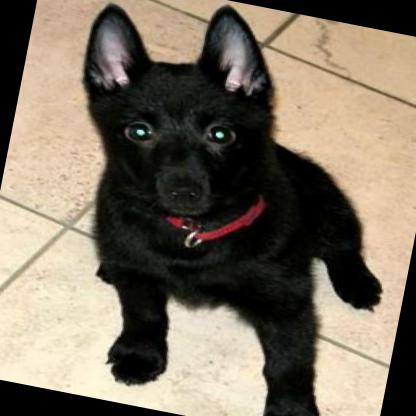schipperke: (15, 0, 416, 416)
